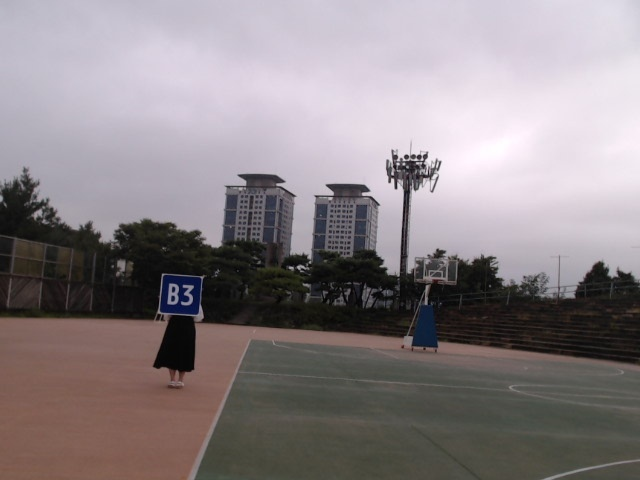delivery_b3: (157, 274, 203, 316)
